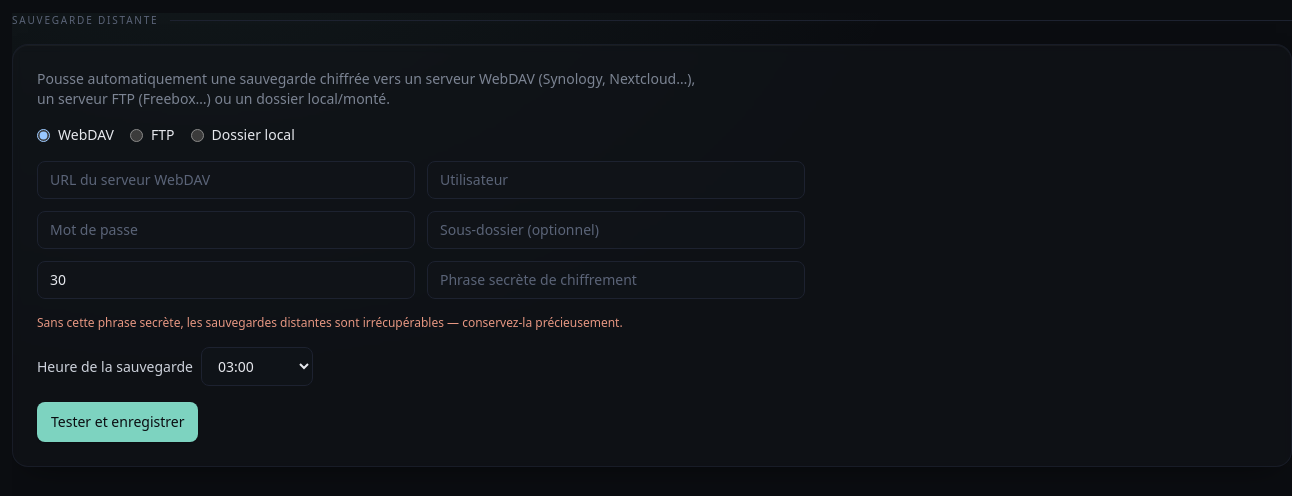
Test: RemoteBackupCard › shows the backend detail when the destination test fails
This screenshot has width=1292, height=496.
Click the radio button labelled "Dossier local" at (197, 135), box 190,128 -> 204,142
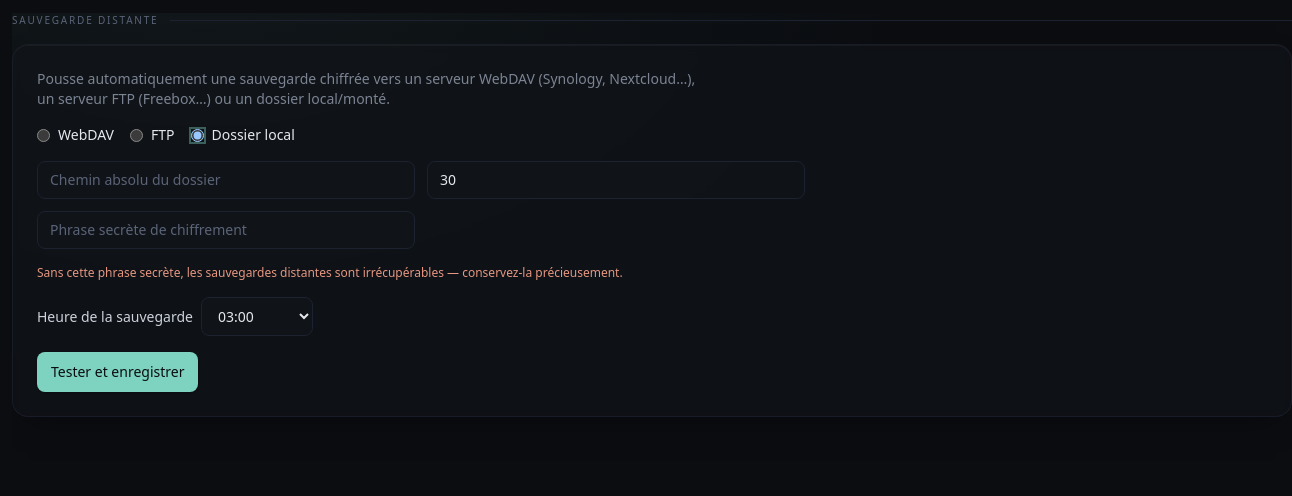
Type "/mnt/backups" into the field labelled "Chemin absolu du dossier" at (226, 180), box 37,161 -> 415,199
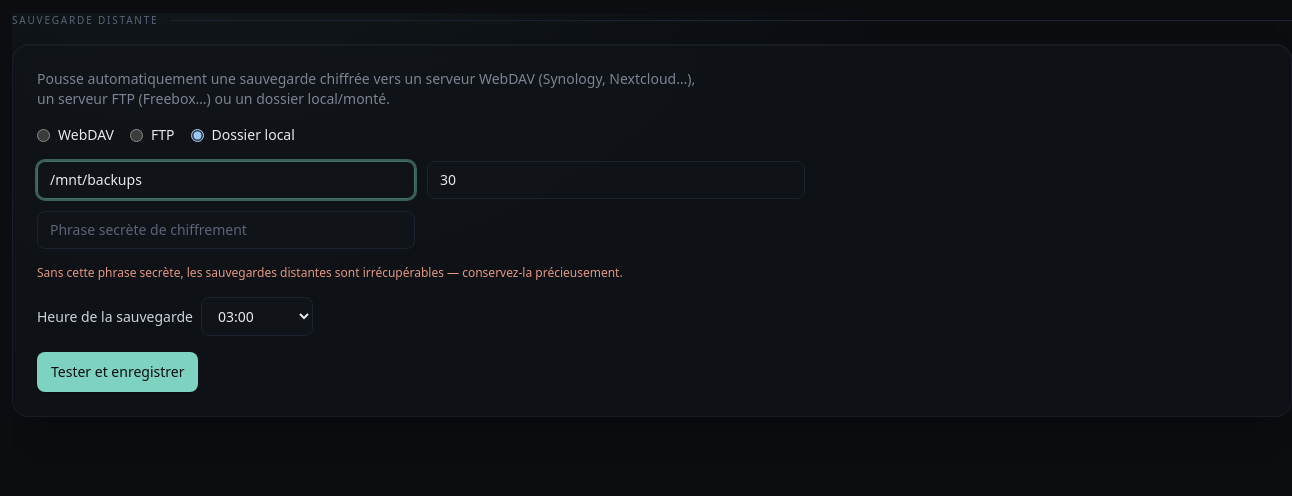
Type "strong-backup-passphrase" into the password field labelled "Phrase secrète de chiffrement" at (226, 230), box 37,211 -> 415,249
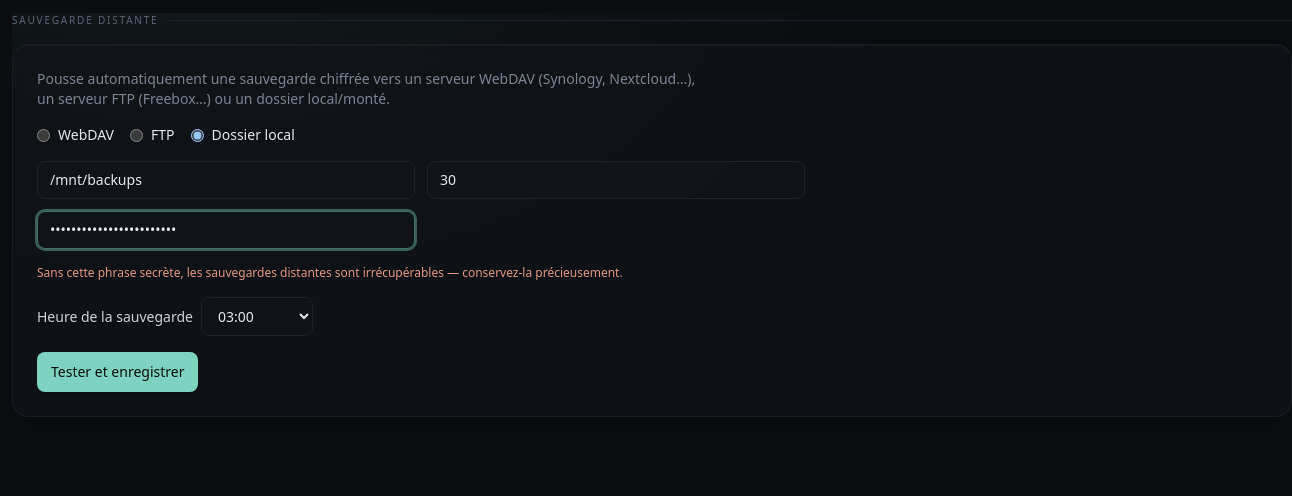
Click the button "Tester et enregistrer" at (118, 372), box 37,352 -> 198,392
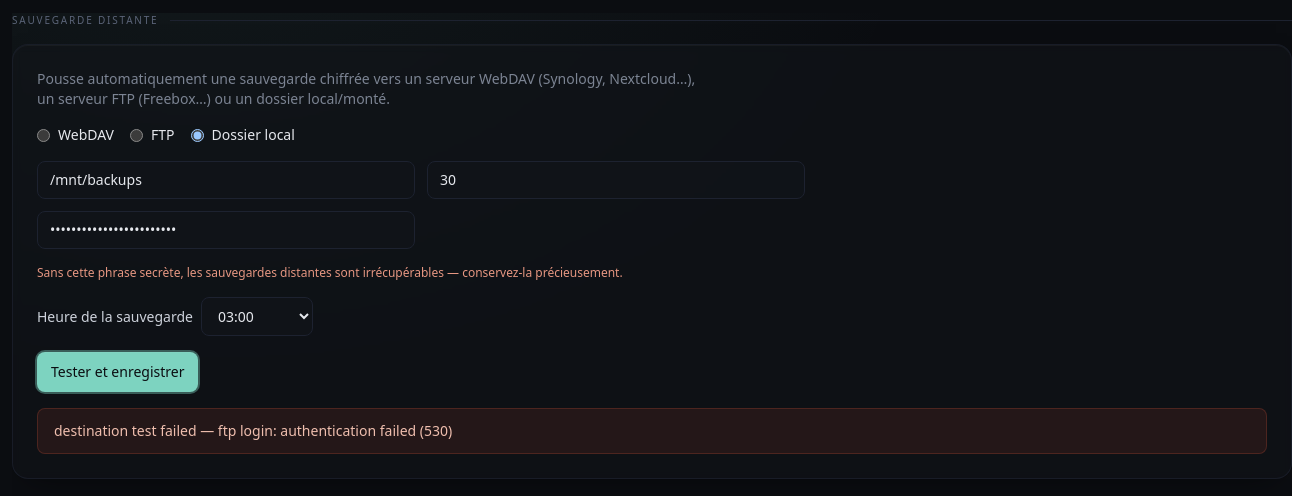
Expected: the text "authentication failed (530)" is shown, 54,421 -> 452,440
